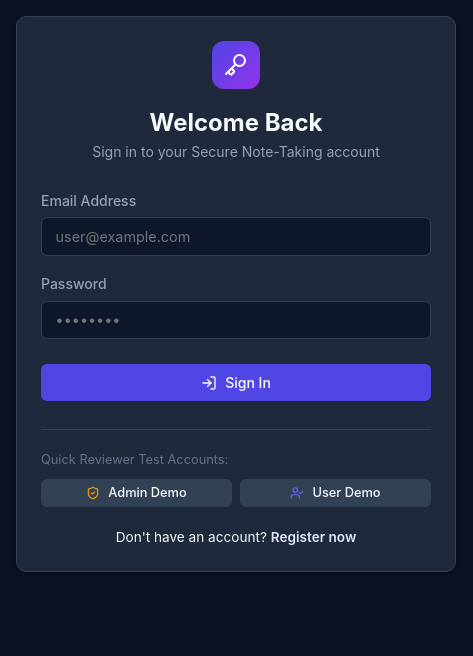
Test: LoginPage Component › should display error message when login rejects with error
This screenshot has width=473, height=656.
In the field with placeholder "user@example.com": (236, 236) [41,217,431,256], type "wrong@example.com"
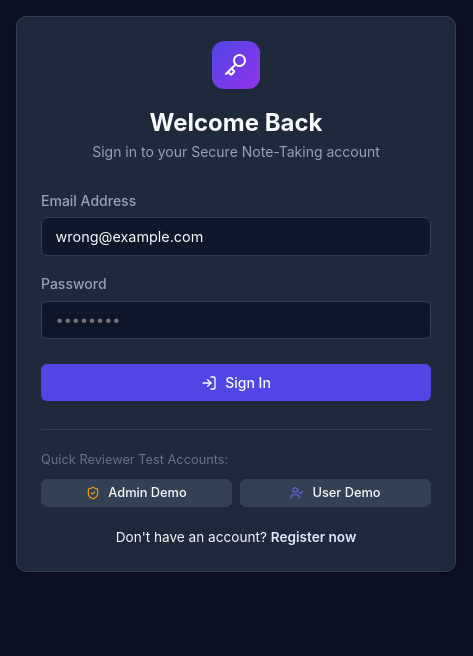
In the password field with placeholder "••••••••": (236, 320) [41,301,431,339], type "wrongpass"
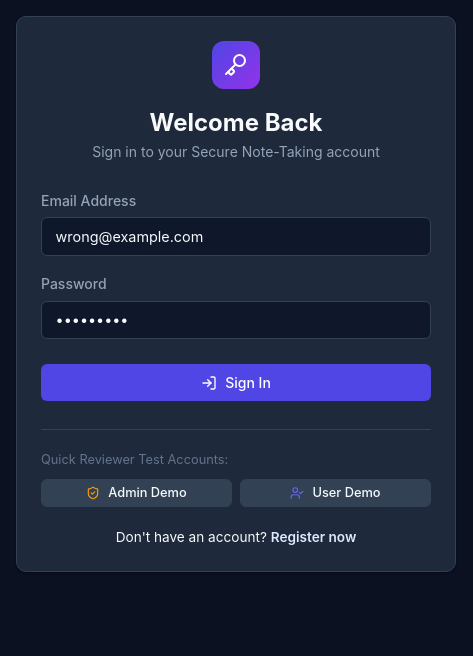
Click the button "Sign In": (236, 383) [41,364,431,401]
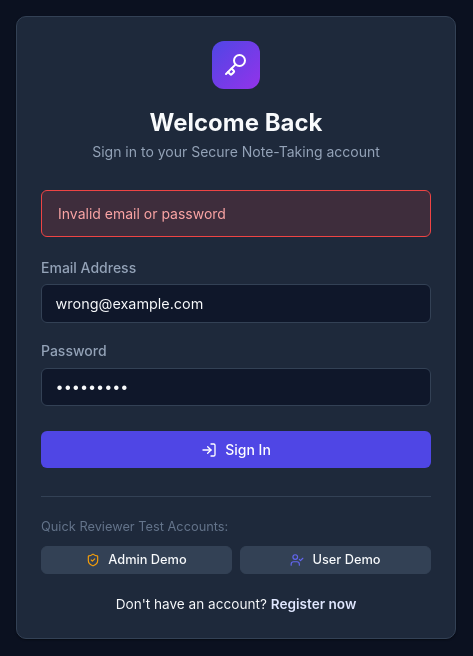
expect the text "Invalid email or password" is shown: met, box [41,190,431,237]
